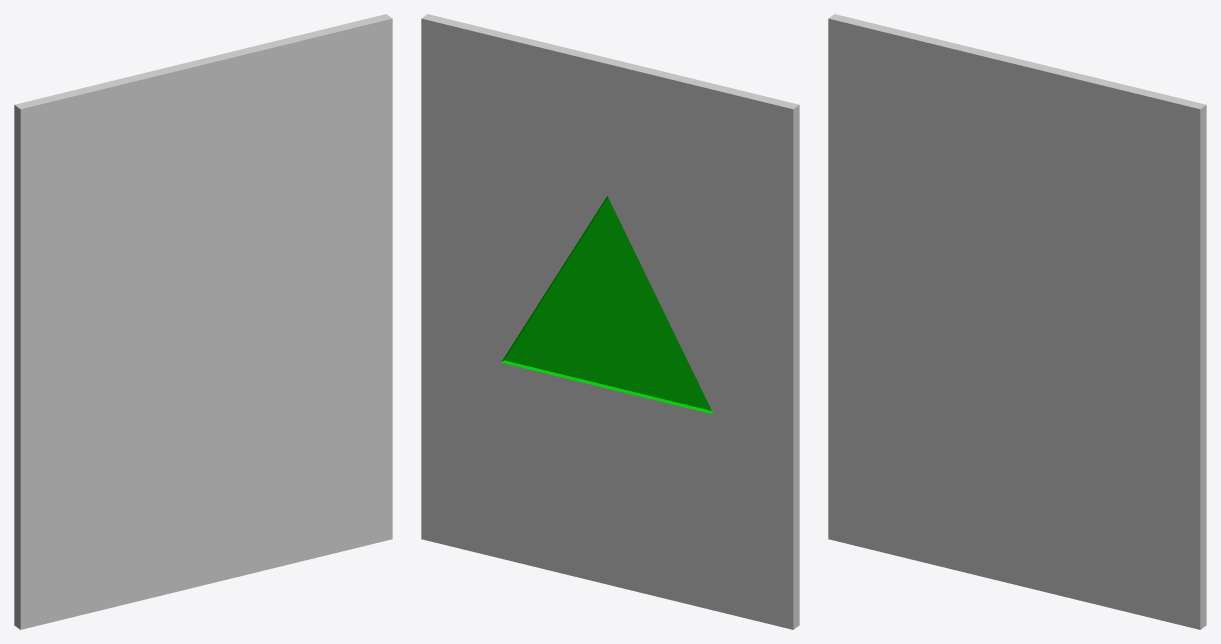
The model's file is green_triangle.dae.
The picture shows the model from 3 angles, left to right: view 1: azimuth 30°, elevation 25°; view 2: azimuth 150°, elevation 25°; view 3: azimuth 330°, elevation 25°; orthographic projection.
Parts seen in each view (by area): view 1: ShapeIndexedFaceSet; view 2: ShapeIndexedFaceSet; view 3: ShapeIndexedFaceSet.
Boxes of the visible parts, left/top/right/bottom form: ShapeIndexedFaceSet: left=14, top=14, right=392, bottom=629; ShapeIndexedFaceSet: left=421, top=14, right=799, bottom=629; ShapeIndexedFaceSet: left=828, top=14, right=1206, bottom=629.
Bounding box in the file's own units: 1.75 × 0.0508 × 2.34.
